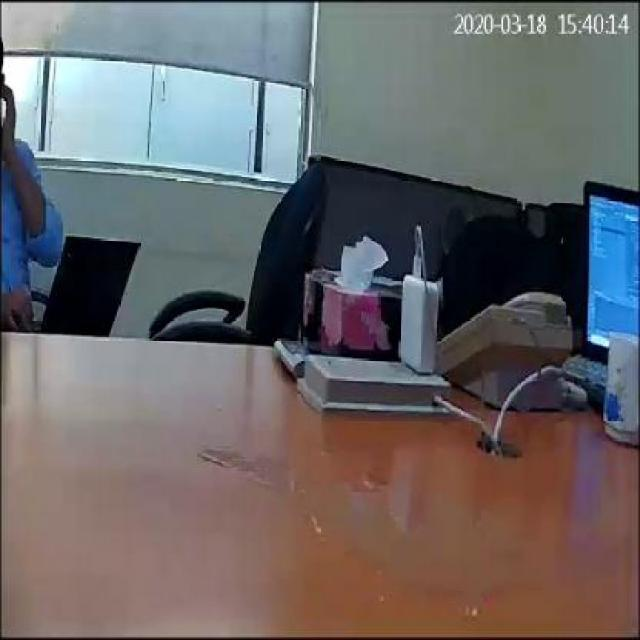spill: (208, 448, 536, 606)
